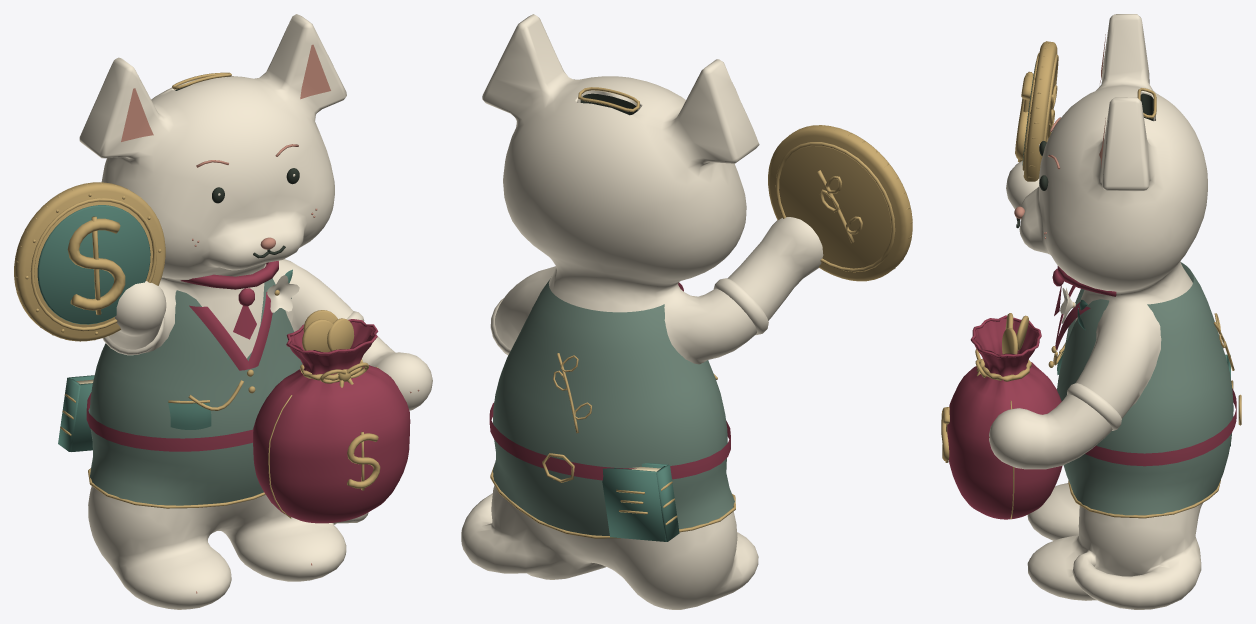
File: money.v1.glb
The picture shows the model from 3 angles, left to right: view 1: azimuth 30°, elevation 25°; view 2: azimuth 150°, elevation 25°; view 3: azimuth 270°, elevation 25°; orthographic projection. The views are drawn at different scales.
Visible parts, largest first — view 1: Money | Porcelain, Money | Garnet, Money | Sage, Money | Gold, Money | Celadon, Money | Rose; view 2: Money | Porcelain, Money | Sage, Money | Gold, Money | Celadon, Money | Garnet; view 3: Money | Porcelain, Money | Sage, Money | Garnet, Money | Gold, Money | Ink.
Part boxes in pixels (x1,y1,x2,y2): Money | Porcelain: [79, 14, 432, 609]; Money | Garnet: [86, 260, 410, 523]; Money | Sage: [90, 278, 302, 505]; Money | Gold: [14, 72, 380, 518]; Money | Celadon: [37, 205, 292, 451]; Money | Rose: [121, 44, 419, 593]; Money | Porcelain: [461, 14, 823, 609]; Money | Sage: [493, 278, 734, 535]; Money | Gold: [490, 87, 912, 538]; Money | Celadon: [602, 463, 679, 541]; Money | Garnet: [489, 282, 730, 480]; Money | Porcelain: [989, 14, 1207, 609]; Money | Sage: [1057, 262, 1233, 515]; Money | Garnet: [947, 266, 1236, 519]; Money | Gold: [941, 41, 1241, 519]; Money | Ink: [1016, 93, 1153, 228].
Bounding box in the file's own units: 0.7882 × 1 × 0.536.
